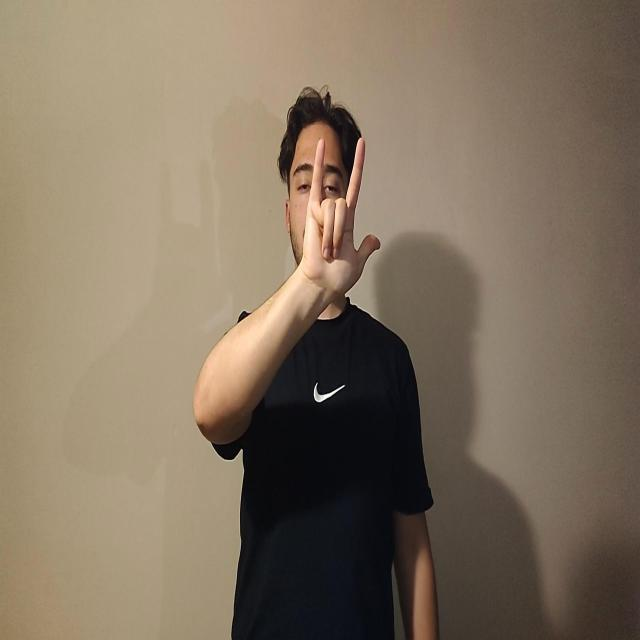iloveyou: (300, 134, 381, 300)
